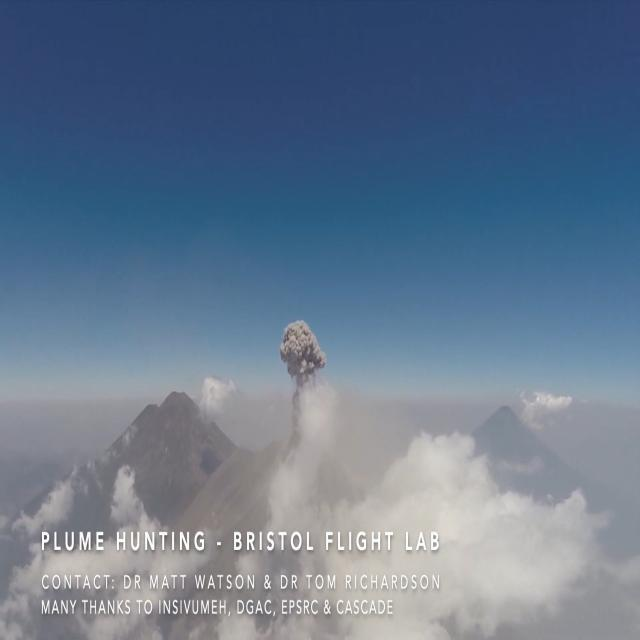Plume: (276, 318, 326, 392)
